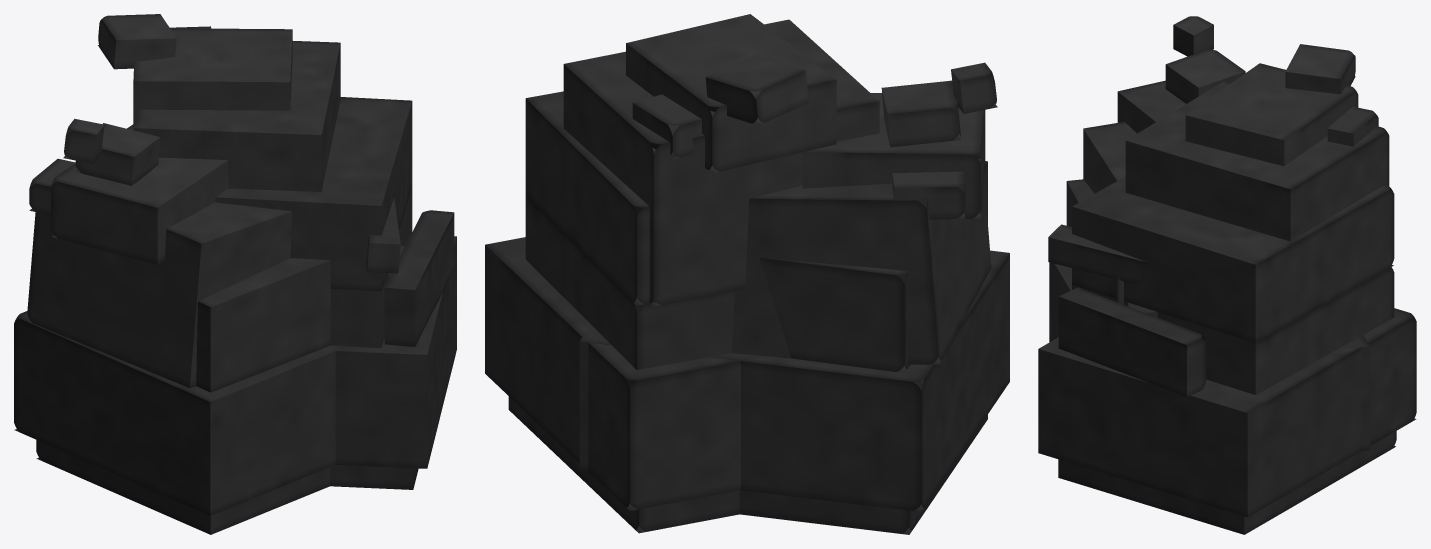
Rendered from trash_bag2.obj.
3 renders of one model, left to right at view 1: azimuth 30°, elevation 25°; view 2: azimuth 150°, elevation 25°; view 3: azimuth 270°, elevation 25°, orthographic. The views are drawn at different scales.
Parts seen in each view (by area): view 1: baseModel1, baseModel2, baseModel10, baseModel12, baseModel11, baseModel0, baseModel3, baseModel13, baseModel16, baseModel5, baseModel19, baseModel14 (+5 smaller); view 2: baseModel1, baseModel11, baseModel12, baseModel2, baseModel13, baseModel10, baseModel0, baseModel19, baseModel3, baseModel14, baseModel5, baseModel4 (+4 smaller); view 3: baseModel11, baseModel10, baseModel12, baseModel19, baseModel13, baseModel16, baseModel15, baseModel17, baseModel14, baseModel2, baseModel4, baseModel1 (+4 smaller).
Boxes of the visible parts, box(x1,y1,x2,y2) form: baseModel1: box(14, 311, 335, 515); baseModel2: box(27, 202, 292, 388); baseModel10: box(215, 97, 412, 291); baseModel12: box(134, 41, 340, 191); baseModel11: box(319, 236, 456, 468); baseModel0: box(196, 258, 391, 392); baseModel3: box(51, 124, 228, 264); baseModel13: box(133, 28, 292, 130); baseModel16: box(384, 210, 454, 346); baseModel5: box(36, 440, 329, 534); baseModel19: box(330, 186, 412, 348); baseModel14: box(98, 14, 176, 69); baseModel1: box(579, 250, 1009, 511); baseModel11: box(485, 237, 922, 510); baseModel12: box(563, 19, 879, 306); baseModel2: box(732, 178, 991, 364); baseModel13: box(626, 14, 836, 173); baseModel10: box(525, 91, 655, 305); baseModel0: box(634, 161, 987, 372); baseModel19: box(525, 195, 734, 389); baseModel3: box(802, 93, 985, 219); baseModel14: box(705, 54, 808, 125); baseModel5: box(739, 414, 987, 534); baseModel4: box(881, 80, 960, 147); baseModel11: box(1038, 308, 1416, 517); baseModel10: box(1072, 176, 1394, 342); baseModel12: box(1125, 81, 1389, 241); baseModel19: box(1072, 267, 1394, 394); baseModel13: box(1185, 63, 1358, 166); baseModel16: box(1058, 287, 1206, 396); baseModel15: box(1058, 431, 1396, 534); baseModel17: box(1048, 224, 1147, 284); baseModel14: box(1285, 44, 1355, 94); baseModel2: box(1083, 122, 1136, 193); baseModel4: box(1165, 49, 1245, 103); baseModel1: box(1049, 262, 1369, 451).
Size of the model in its own units: 0.9785 by 0.8639 by 0.8224.
1 material, 1 textured.
